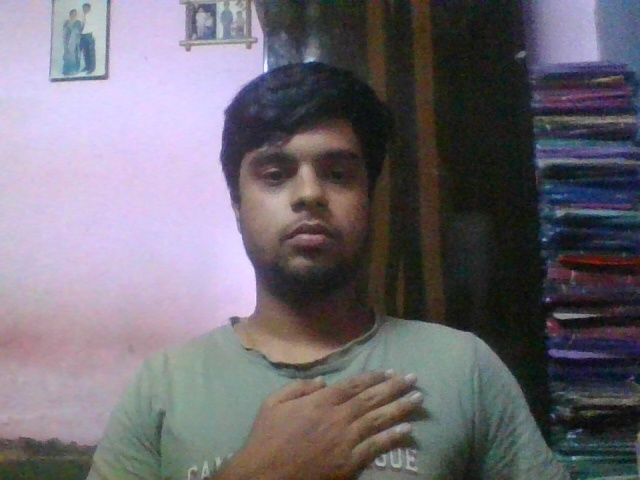Please: (250, 364, 429, 480)
